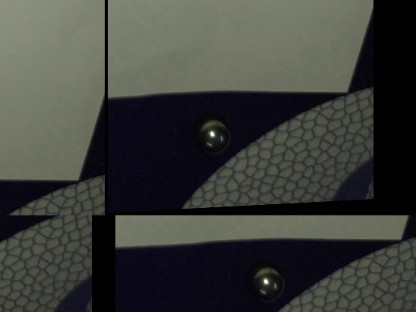ironball: (247, 265, 289, 304), (196, 118, 231, 158)
